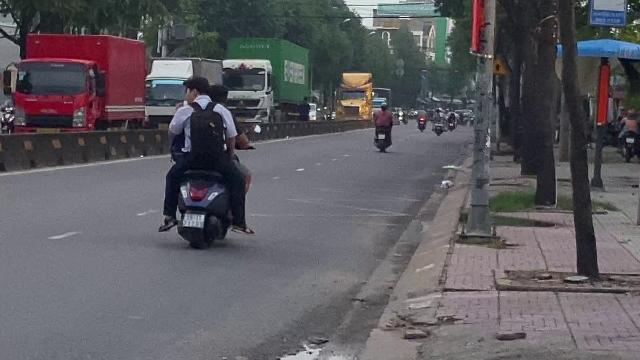licenseplate: (182, 212, 205, 228)
motorcyclist: (157, 70, 255, 250)
nohelmet: (183, 74, 210, 102), (208, 82, 228, 106)
